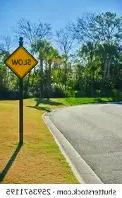Slow: (6, 46, 37, 76)
